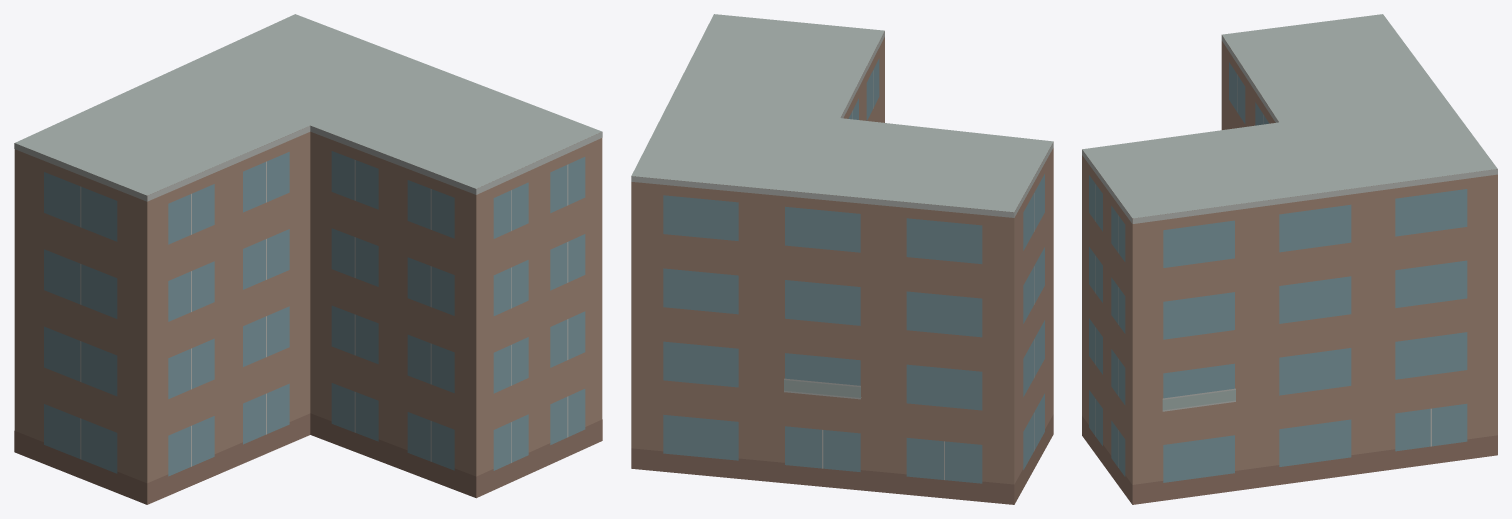
Rendered from survey-upis-32927223.glb.
The picture shows the model from 3 angles, left to right: view 1: azimuth 30°, elevation 25°; view 2: azimuth 150°, elevation 25°; view 3: azimuth 270°, elevation 25°; orthographic projection. The views are drawn at different scales.
Visible parts, largest first — view 1: survey-upis-32927223.tmp; view 2: survey-upis-32927223.tmp; view 3: survey-upis-32927223.tmp.
Part boxes in pixels (<box>): survey-upis-32927223.tmp: <box>14,14,602,504</box>; survey-upis-32927223.tmp: <box>631,14,1053,504</box>; survey-upis-32927223.tmp: <box>1082,14,1497,504</box>.
Bounding box in the file's own units: 19 × 12.4 × 16.33.
